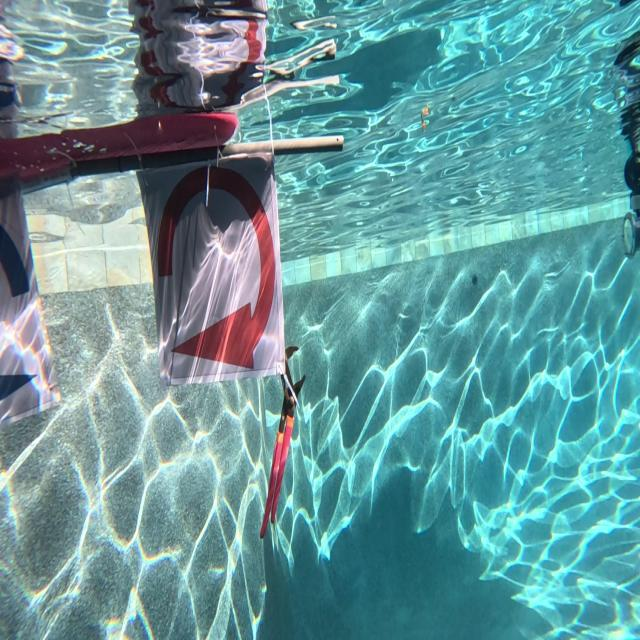blue_side: (0, 190, 60, 427)
red_side: (134, 150, 288, 377)
